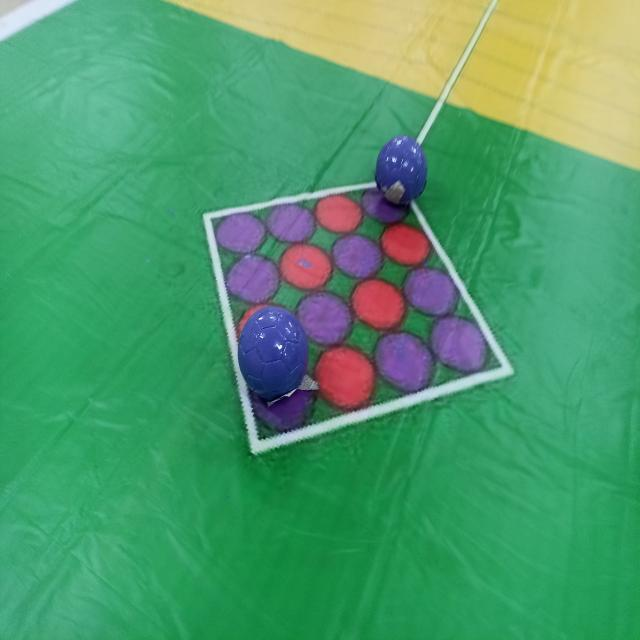purple_ball: (238, 301, 310, 409), (374, 135, 427, 209)
